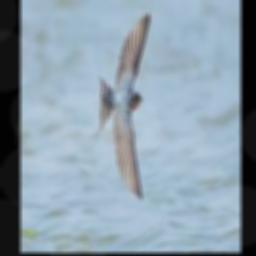Swallow: (91, 12, 149, 200)
